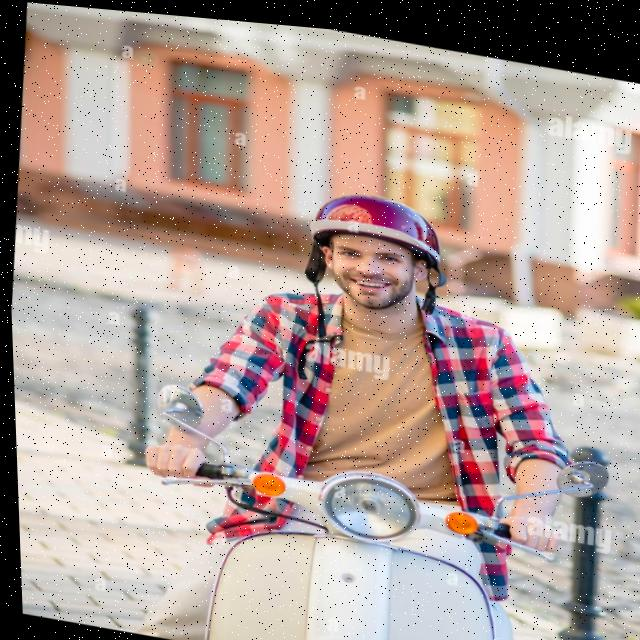illegal_helmet: (285, 173, 457, 401)
